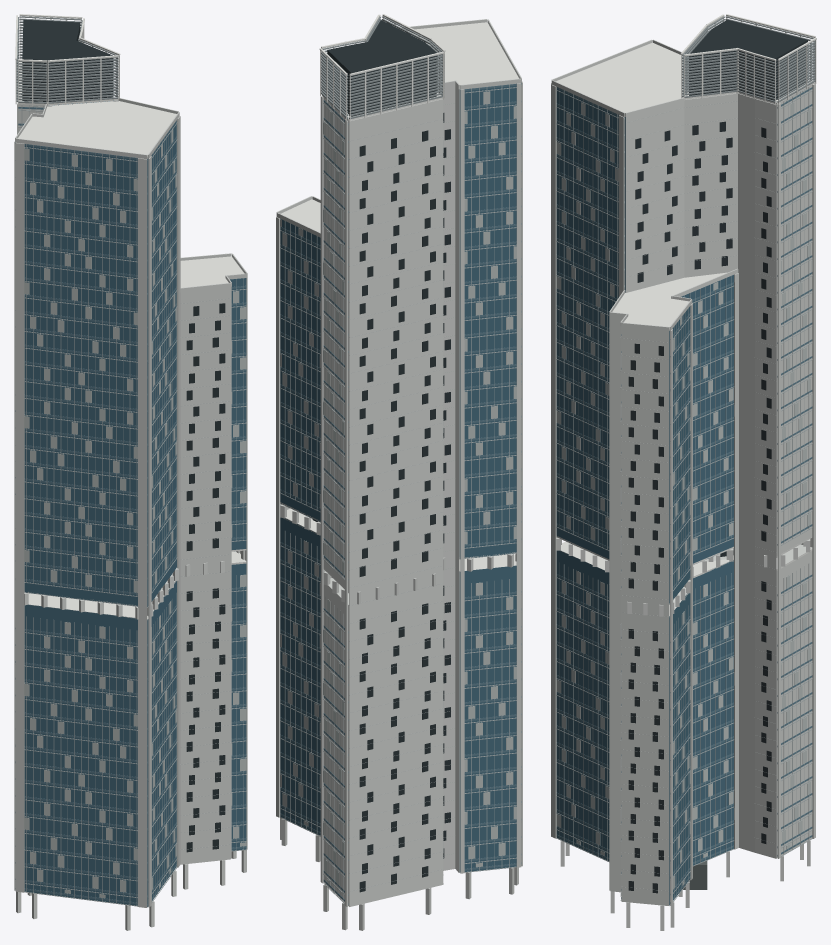
Rendered from bespoke-trimage-103.glb.
The picture shows the model from 3 angles, left to right: view 1: azimuth 30°, elevation 25°; view 2: azimuth 150°, elevation 25°; view 3: azimuth 270°, elevation 25°; orthographic projection. The views are drawn at different scales.
Parts seen in each view (by area): view 1: 103_stepped_wing_masses003_2, 103_photo_specific_facades003, 103_photo_specific_facades003_3, 103_photo_specific_facades003_1, 103_photo_specific_facades003_2, 103_stepped_wing_masses003_1, 103_louver_crowns003_2, 103_louver_crowns003_3, 103_photo_specific_facades003_4, 103_pilotis_and_recessed_lobby003, 103_louver_crowns003, 103_louver_crowns003_1; view 2: 103_photo_specific_facades003, 103_stepped_wing_masses003_2, 103_photo_specific_facades003_3, 103_photo_specific_facades003_2, 103_stepped_wing_masses003, 103_photo_specific_facades003_1, 103_photo_specific_facades003_4, 103_stepped_wing_masses003_1, 103_louver_crowns003_3, 103_louver_crowns003_2, 103_pilotis_and_recessed_lobby003, 103_louver_crowns003_1 (+1 smaller); view 3: 103_photo_specific_facades003, 103_stepped_wing_masses003_2, 103_photo_specific_facades003_3, 103_stepped_wing_masses003, 103_photo_specific_facades003_2, 103_photo_specific_facades003_1, 103_stepped_wing_masses003_1, 103_photo_specific_facades003_4, 103_louver_crowns003_3, 103_louver_crowns003_2, 103_pilotis_and_recessed_lobby003, 103_louver_crowns003 (+1 smaller).
Boxes of the visible parts, box(x1,y1,x2,y2) form: 103_stepped_wing_masses003_2: box(24, 121, 246, 906); 103_photo_specific_facades003: box(14, 67, 247, 907); 103_photo_specific_facades003_3: box(15, 101, 246, 906); 103_photo_specific_facades003_1: box(15, 100, 246, 905); 103_photo_specific_facades003_2: box(24, 106, 246, 898); 103_stepped_wing_masses003_1: box(18, 62, 246, 619); 103_louver_crowns003_2: box(22, 19, 113, 101); 103_louver_crowns003_3: box(16, 16, 119, 103); 103_photo_specific_facades003_4: box(186, 303, 225, 852); 103_pilotis_and_recessed_lobby003: box(16, 550, 246, 930); 103_louver_crowns003: box(15, 98, 247, 292); 103_louver_crowns003_1: box(15, 14, 120, 106); 103_photo_specific_facades003: box(276, 81, 522, 906); 103_stepped_wing_masses003_2: box(280, 85, 516, 872); 103_photo_specific_facades003_3: box(280, 84, 521, 903); 103_photo_specific_facades003_2: box(280, 91, 516, 891); 103_stepped_wing_masses003: box(322, 96, 442, 906); 103_photo_specific_facades003_1: box(280, 83, 521, 904); 103_photo_specific_facades003_4: box(359, 113, 450, 892); 103_stepped_wing_masses003_1: box(280, 22, 518, 592); 103_louver_crowns003_3: box(321, 16, 444, 118); 103_louver_crowns003_2: box(327, 20, 436, 116); 103_pilotis_and_recessed_lobby003: box(280, 504, 518, 930); 103_louver_crowns003_1: box(319, 14, 445, 121); 103_photo_specific_facades003: box(551, 82, 815, 905); 103_stepped_wing_masses003_2: box(556, 89, 733, 905); 103_photo_specific_facades003_3: box(556, 87, 812, 905); 103_stepped_wing_masses003: box(685, 83, 813, 857); 103_photo_specific_facades003_2: box(556, 89, 812, 896); 103_photo_specific_facades003_1: box(556, 87, 812, 903); 103_stepped_wing_masses003_1: box(555, 42, 814, 616); 103_photo_specific_facades003_4: box(628, 121, 771, 893); 103_louver_crowns003_3: box(682, 16, 815, 102); 103_louver_crowns003_2: box(689, 20, 807, 100); 103_pilotis_and_recessed_lobby003: box(556, 537, 810, 930); 103_louver_crowns003: box(551, 39, 738, 331).
Size of the model in its own units: 41.64 by 144 by 42.18.
